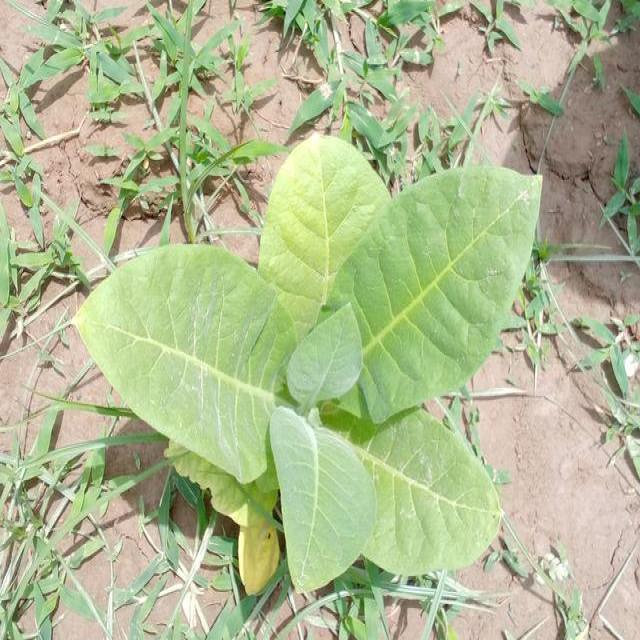crop: (88, 132, 542, 572)
